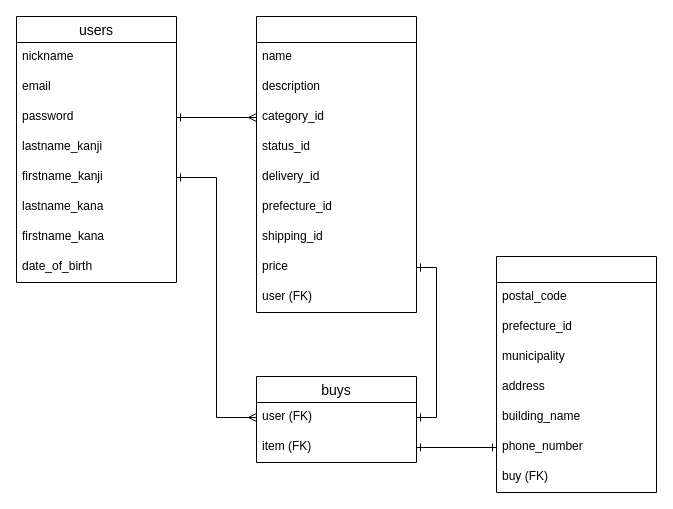
Some shapes in this 673 by 509 pixel diagram are drawn without their labels. The box of each missing label's shape, as (x1, y1, x2, y2) in pixels:
items: (256, 16, 416, 312)
receivers: (496, 256, 656, 492)
